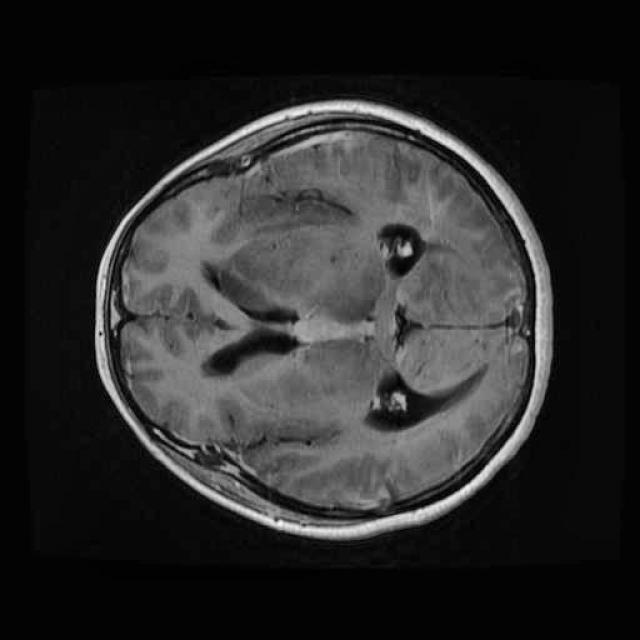Tumor: (208, 221, 394, 334)
